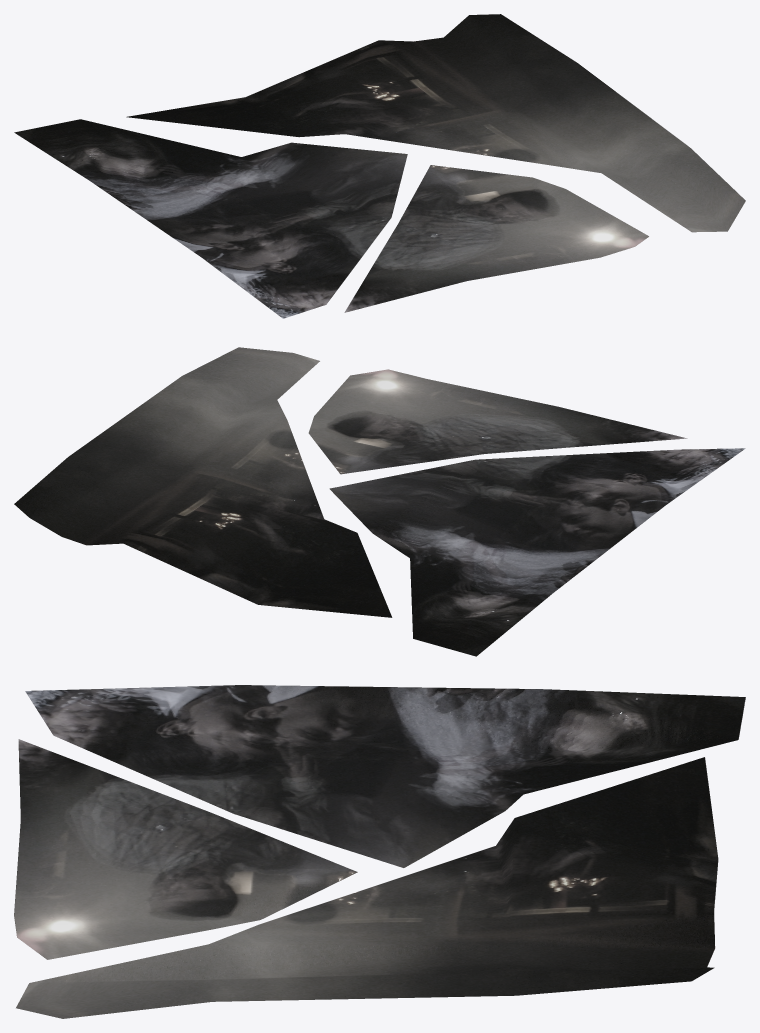
File: Fotografia 1.FBX
The picture shows the model from 3 angles, top to bottom: view 1: azimuth 30°, elevation 25°; view 2: azimuth 150°, elevation 25°; view 3: azimuth 270°, elevation 25°; orthographic projection. The views are drawn at different scales.
Parts seen in each view (by area): view 1: Plane008; view 2: Plane008; view 3: Plane008.
Boxes of the visible parts, x1,y1,x2,y2 form: Plane008: [14, 14, 745, 318]; Plane008: [14, 347, 745, 656]; Plane008: [14, 685, 745, 1018].
Size of the model in its own units: 8.05 by 0.4846 by 7.8.
